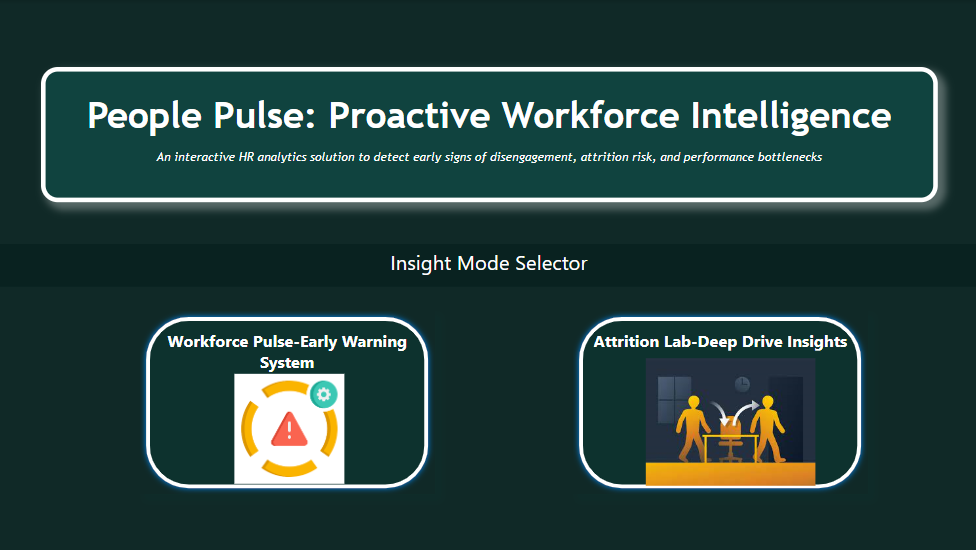

The page's visual inventory and layout, read from the dashboard file:
{"tool":"powerbi","page":{"name":"Introduction","canvas":[1280,720],"ordinal":0},"visuals":[{"type":"textbox","box":[53.3,87.8,1173.6,177.1],"z":0},{"type":"textbox","box":[0,319.7,1280.2,56.2],"z":1000},{"type":"shape","box":[182.9,407.5,385.9,240.5],"z":2000},{"type":"image","box":[262.1,483.8,233.3,154.1],"z":3000},{"type":"shape","box":[750.2,407.5,385.9,240.5],"z":4000},{"type":"image","box":[841,436.3,231.8,233.3],"z":5000}]}

Visuals, with their boxes in screenshot pixels (x1, y1, x2, y2), scaled from the page's 1280x720 canvas onto the 976x550 screenshot:
textbox: l=41, t=67, r=936, b=202
textbox: l=0, t=244, r=975, b=287
shape: l=139, t=311, r=434, b=495
image: l=200, t=370, r=378, b=487
shape: l=572, t=311, r=866, b=495
image: l=641, t=333, r=818, b=512
